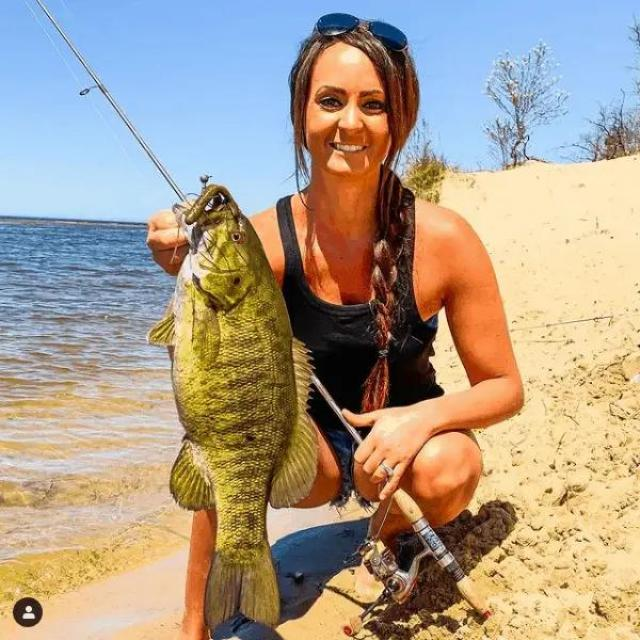Bass - Smallmouth: (150, 185, 316, 628)
